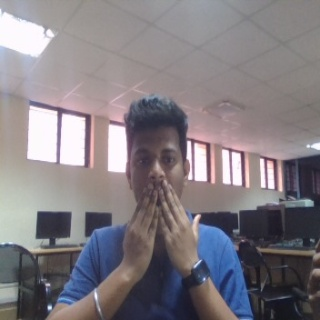Thank You: (119, 182, 209, 283)
